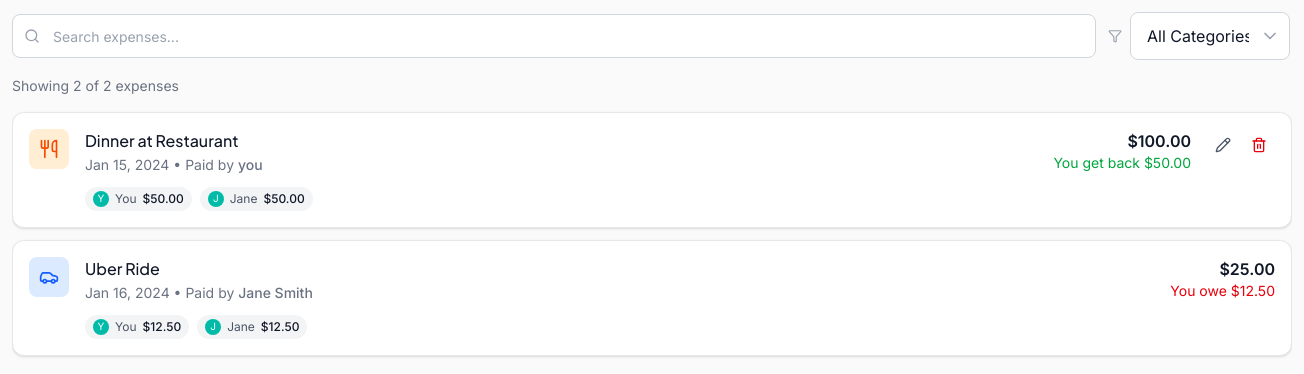
it: ExpensesList › filters expenses by search query
This screenshot has width=1304, height=374.
In the field with placeholder "Search expenses...": (554, 36) [12,14,1096,58], type "Dinner"
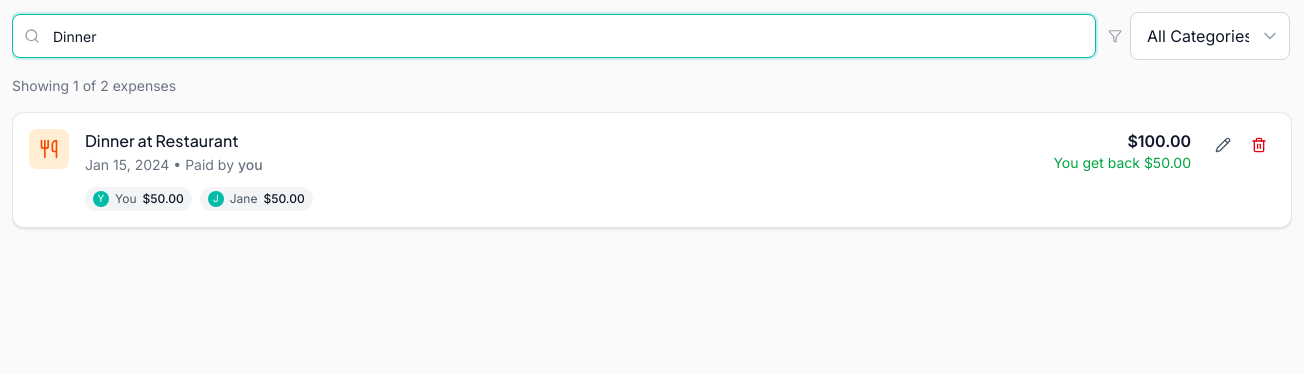
Expected: the heading "Dinner at Restaurant" is shown, [85,129,263,153]
Result: the heading "Uber Ride" is gone
Result: the text "Showing 1 of 2 expenses" is shown at [12,77,176,94]
